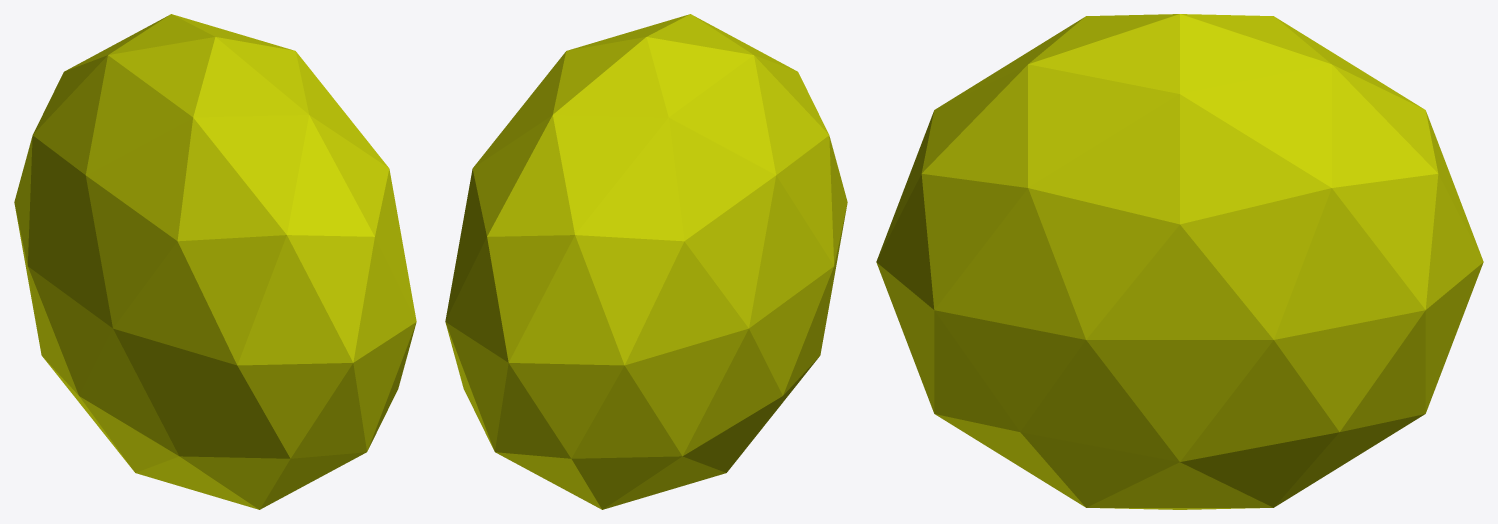
File: Collectable.fbx
3 views of the same model, side by side, from view 1: azimuth 30°, elevation 25°; view 2: azimuth 150°, elevation 25°; view 3: azimuth 270°, elevation 25° (orthographic). The views are drawn at different scales.
Visible parts, largest first — view 1: Icosphere; view 2: Icosphere; view 3: Icosphere.
Boxes of the visible parts, box(x1,y1,x2,y2) form: Icosphere: box(14, 14, 416, 509); Icosphere: box(445, 14, 847, 509); Icosphere: box(876, 14, 1483, 509).
Size of the model in its own units: 262 by 389 by 432.
